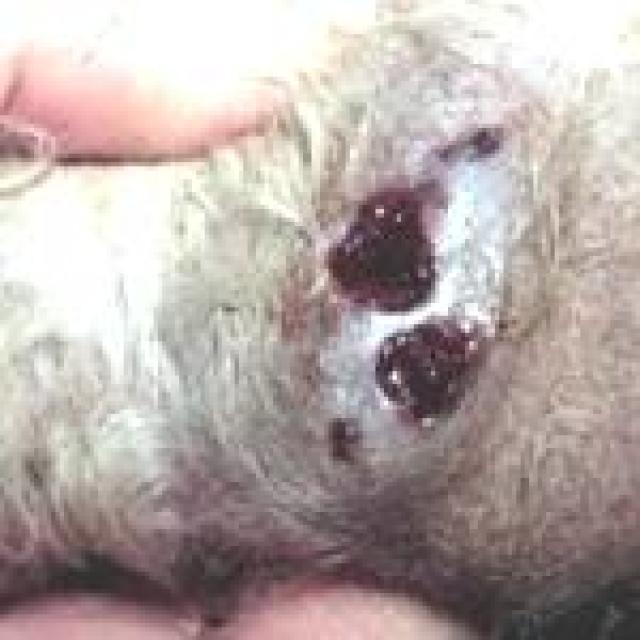fungal infection: (308, 190, 451, 312), (352, 322, 482, 424), (431, 123, 511, 170), (320, 416, 370, 459)
